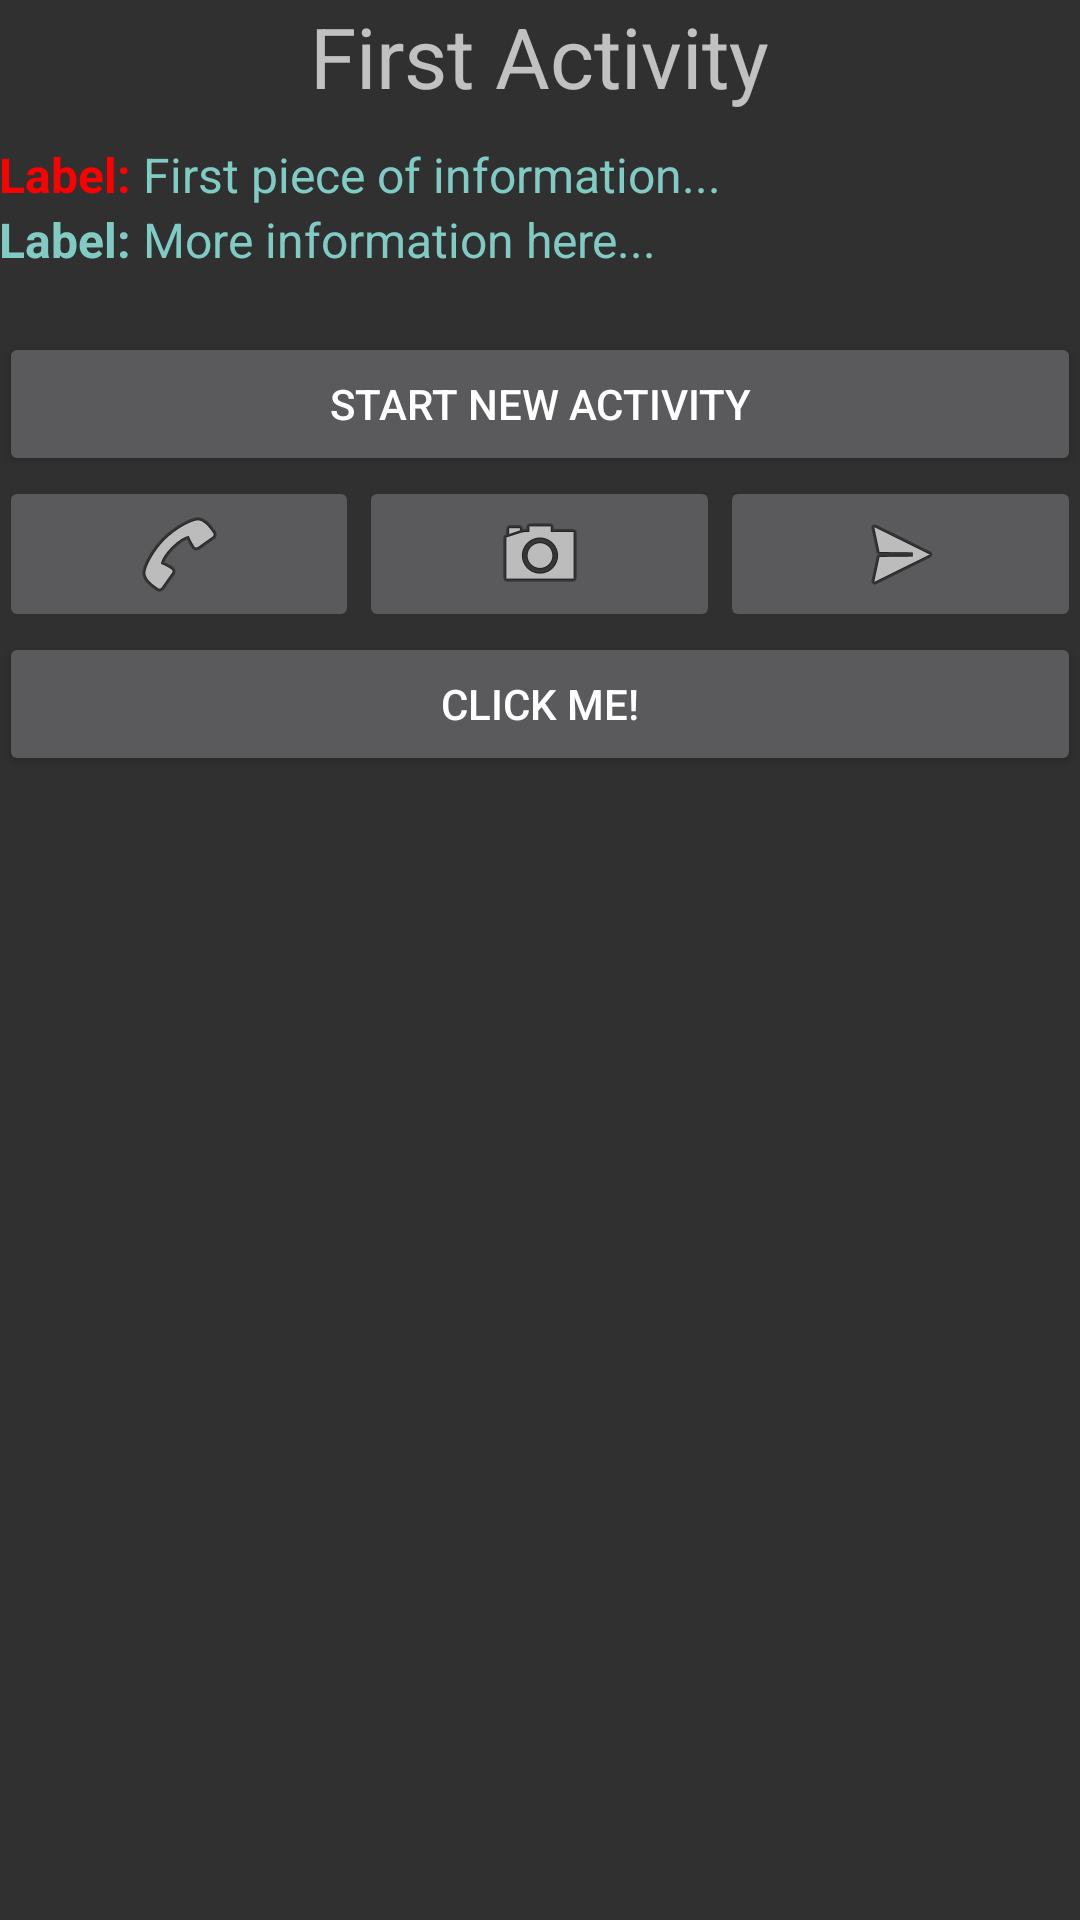

Icon bounding boxes for this 1080w x 1920h phone screenshot, format bbox=(x1, y1, x2, y2):
Dial: bbox=(11, 494, 347, 614)
Message: bbox=(732, 494, 1069, 614)
Take Picture: bbox=(371, 494, 708, 614)
